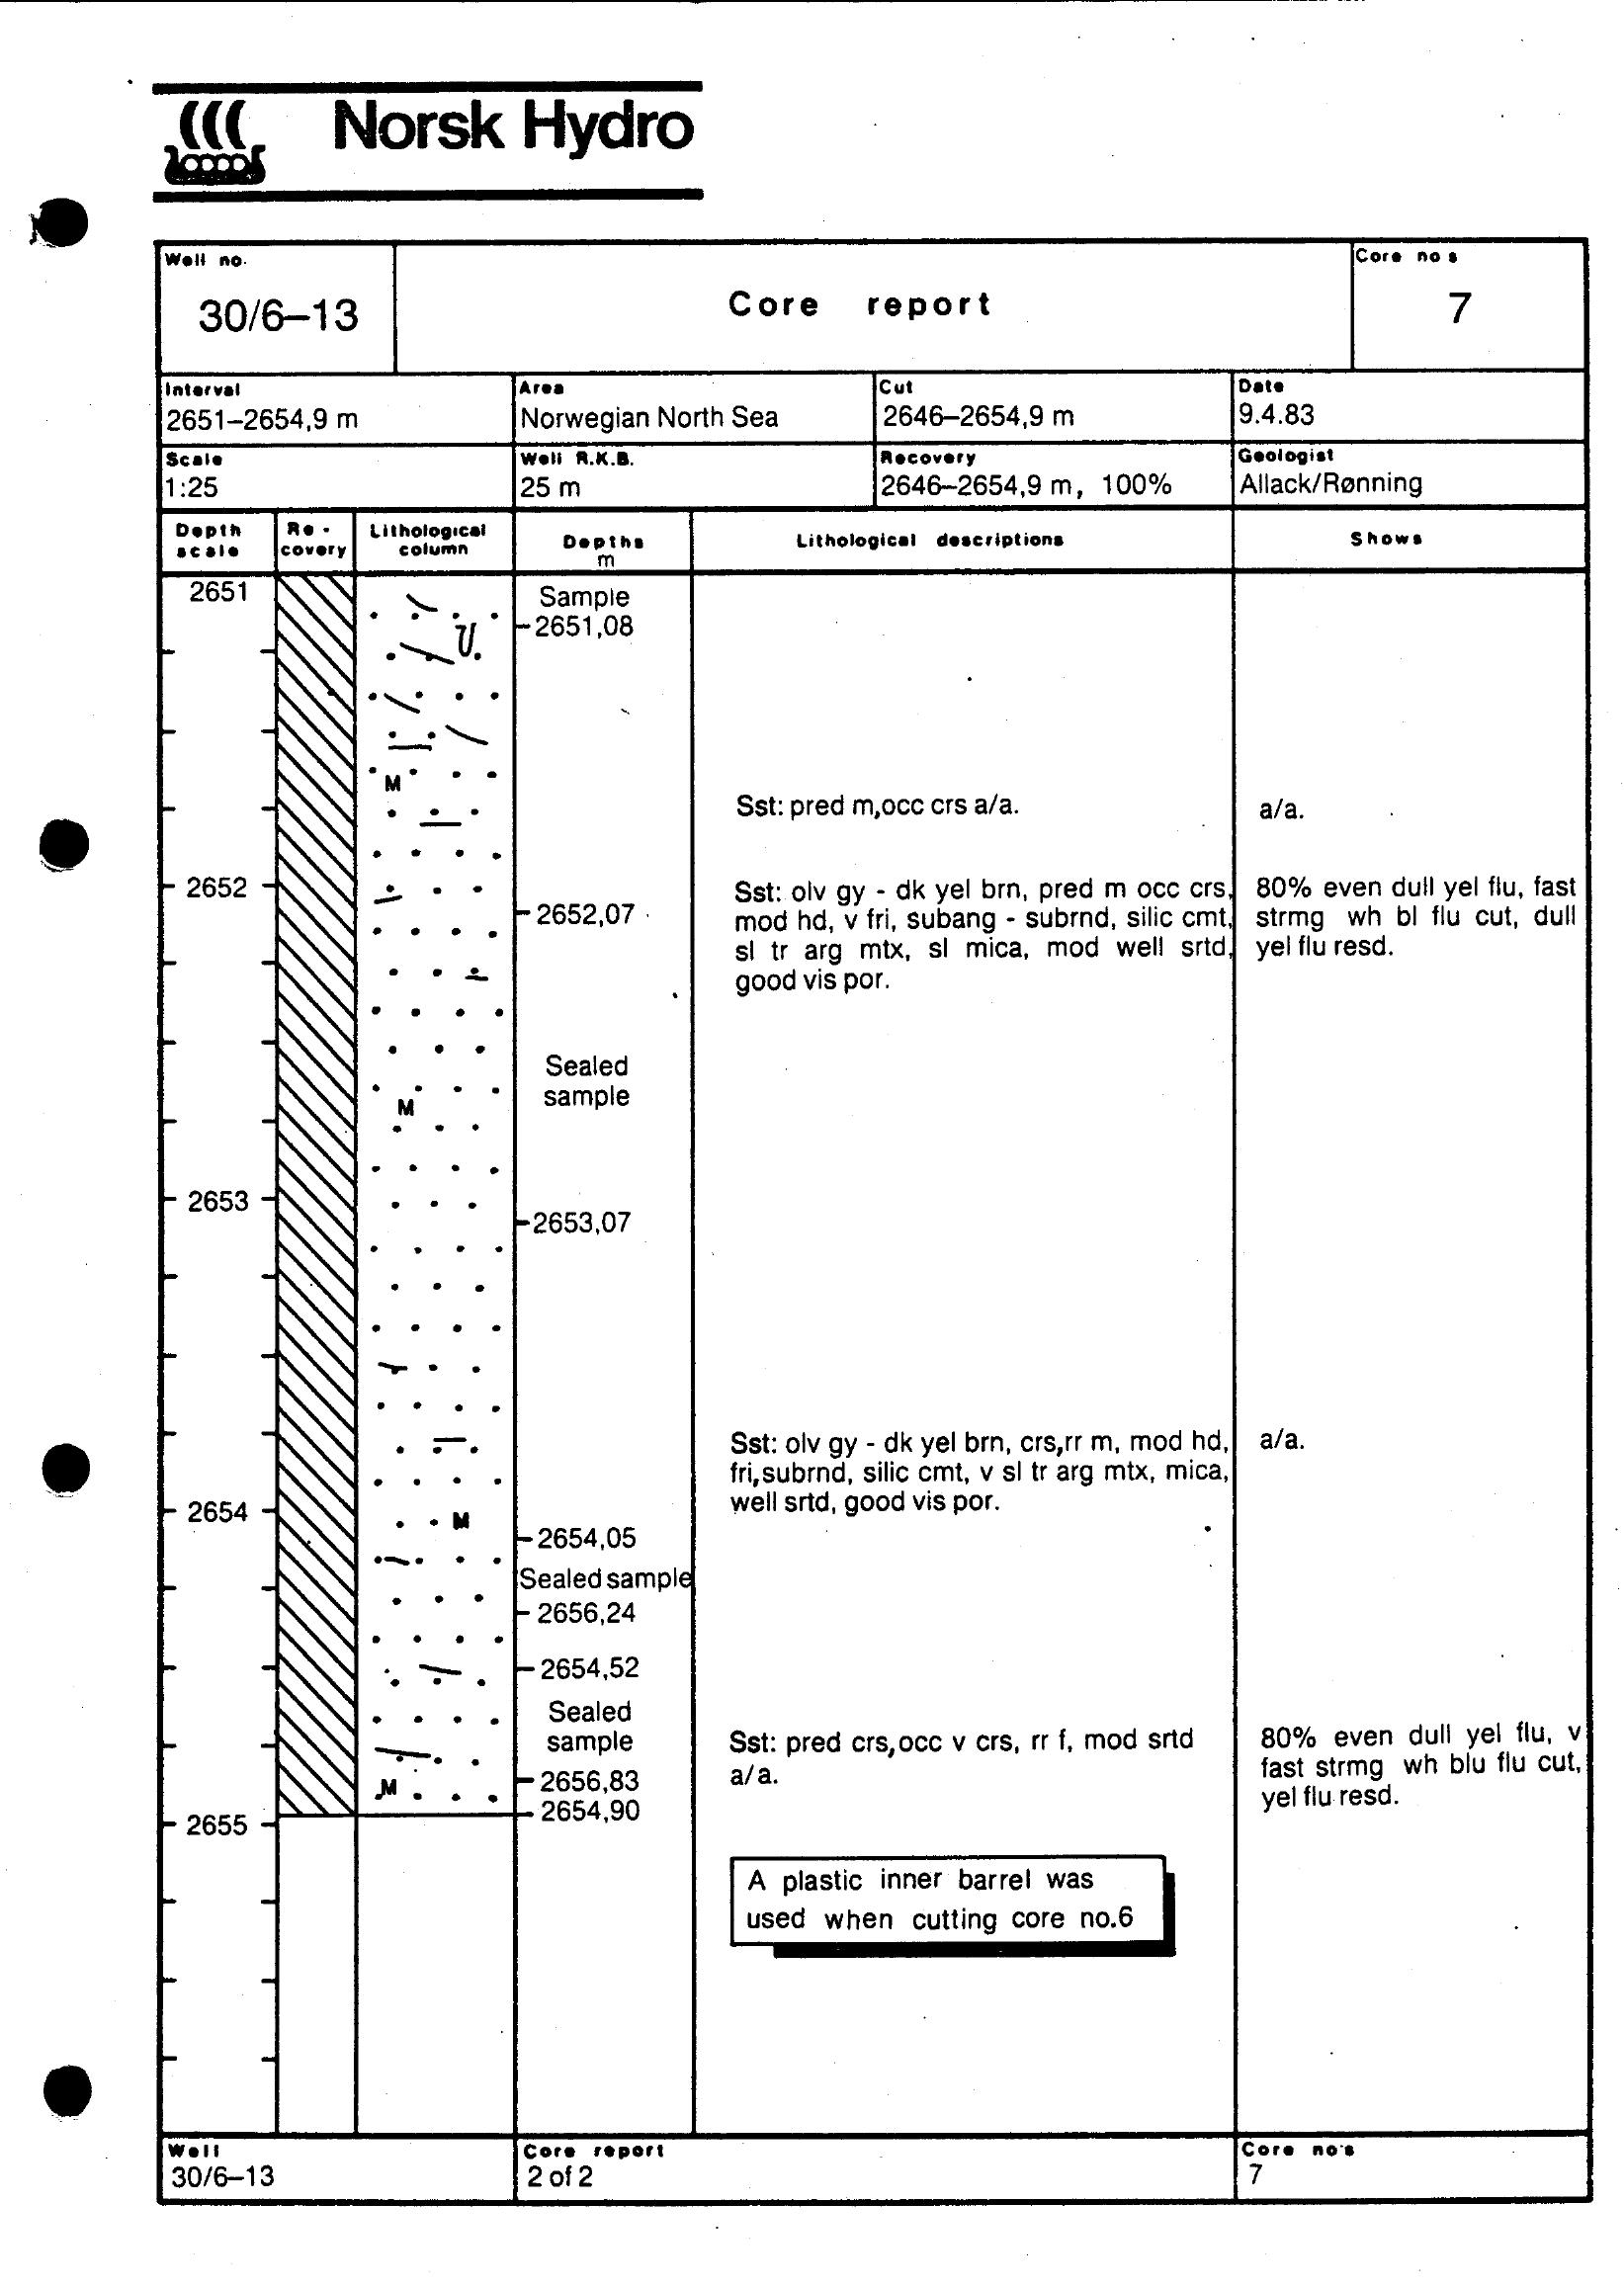graph: (137, 228, 1624, 2249)
undefined: (102, 60, 750, 218)
